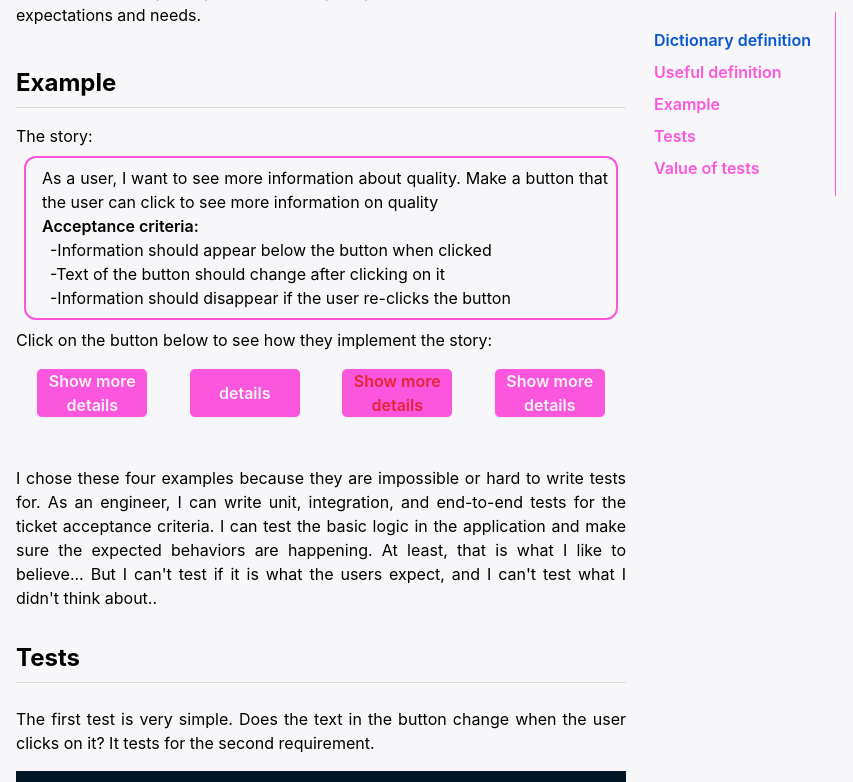
Test: home page › example buttons › should reset the wording of the button and change the text when clicking a second button
(page scrolled)
Click the 1st button "Show more details" at (92, 393), box x1=36 y1=368 x2=148 y2=418
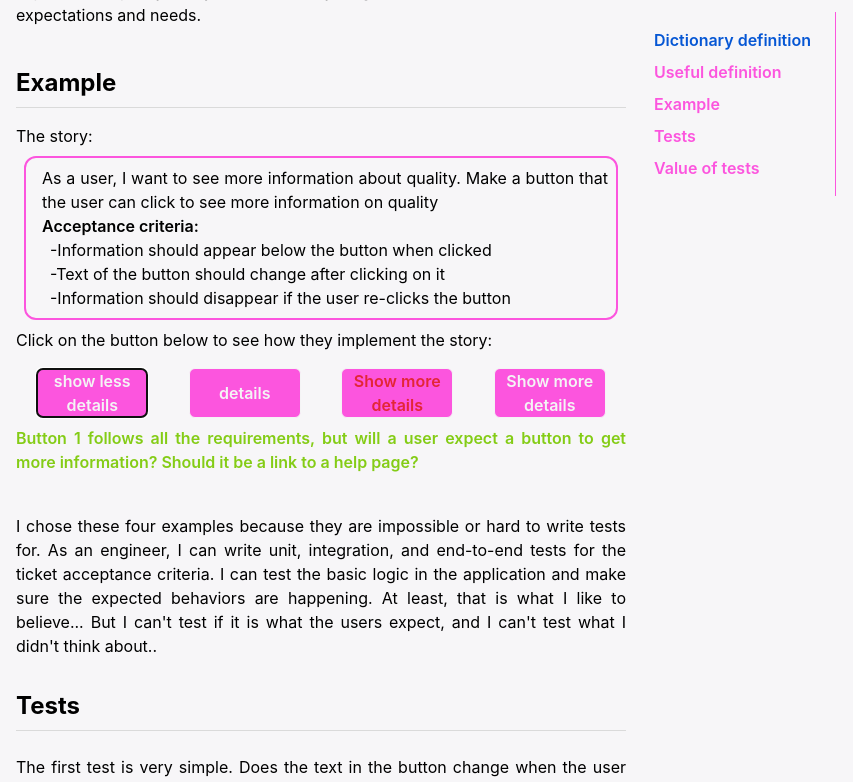
Expected: the button named "Show more details" reads "show less details", x1=36 y1=368 x2=148 y2=418
Click the button "Show more details" at (397, 393), box x1=341 y1=368 x2=453 y2=418
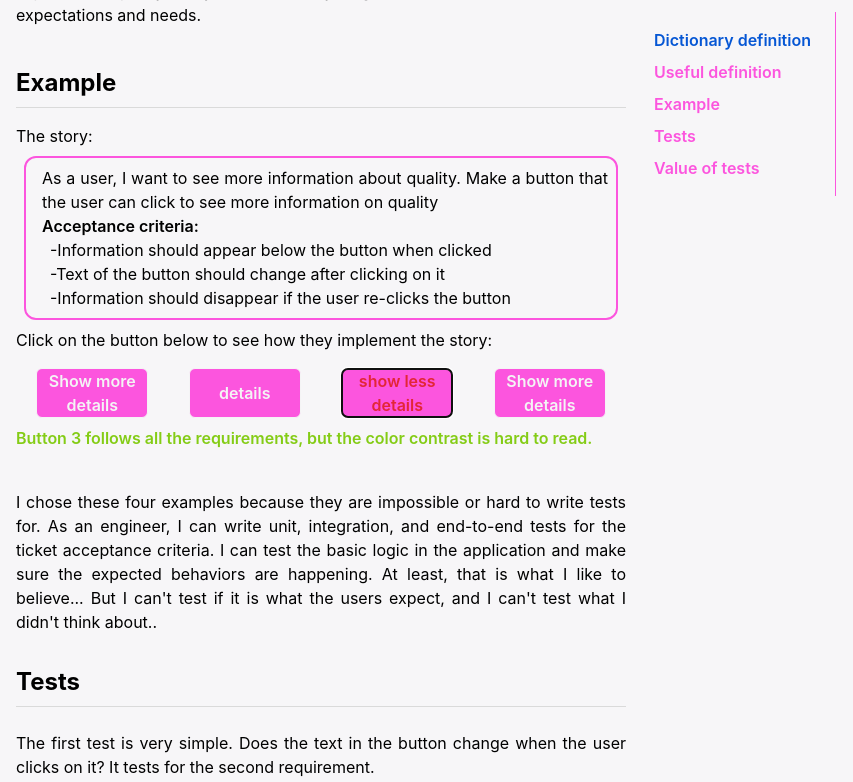
Expected: the button named "Show more details" reads "show less details", x1=341 y1=368 x2=453 y2=418
Expected: the button "Show more details" is shown, x1=36 y1=368 x2=148 y2=418
Expected: the text "Button 3 follows all the requirements, but the color contrast is hard to read." is shown, x1=16 y1=426 x2=626 y2=450
